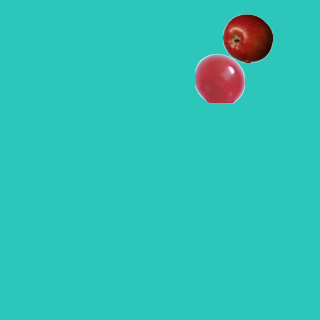Apple Braeburn: (222, 13, 272, 63)
Redcurrant: (194, 53, 244, 103)
